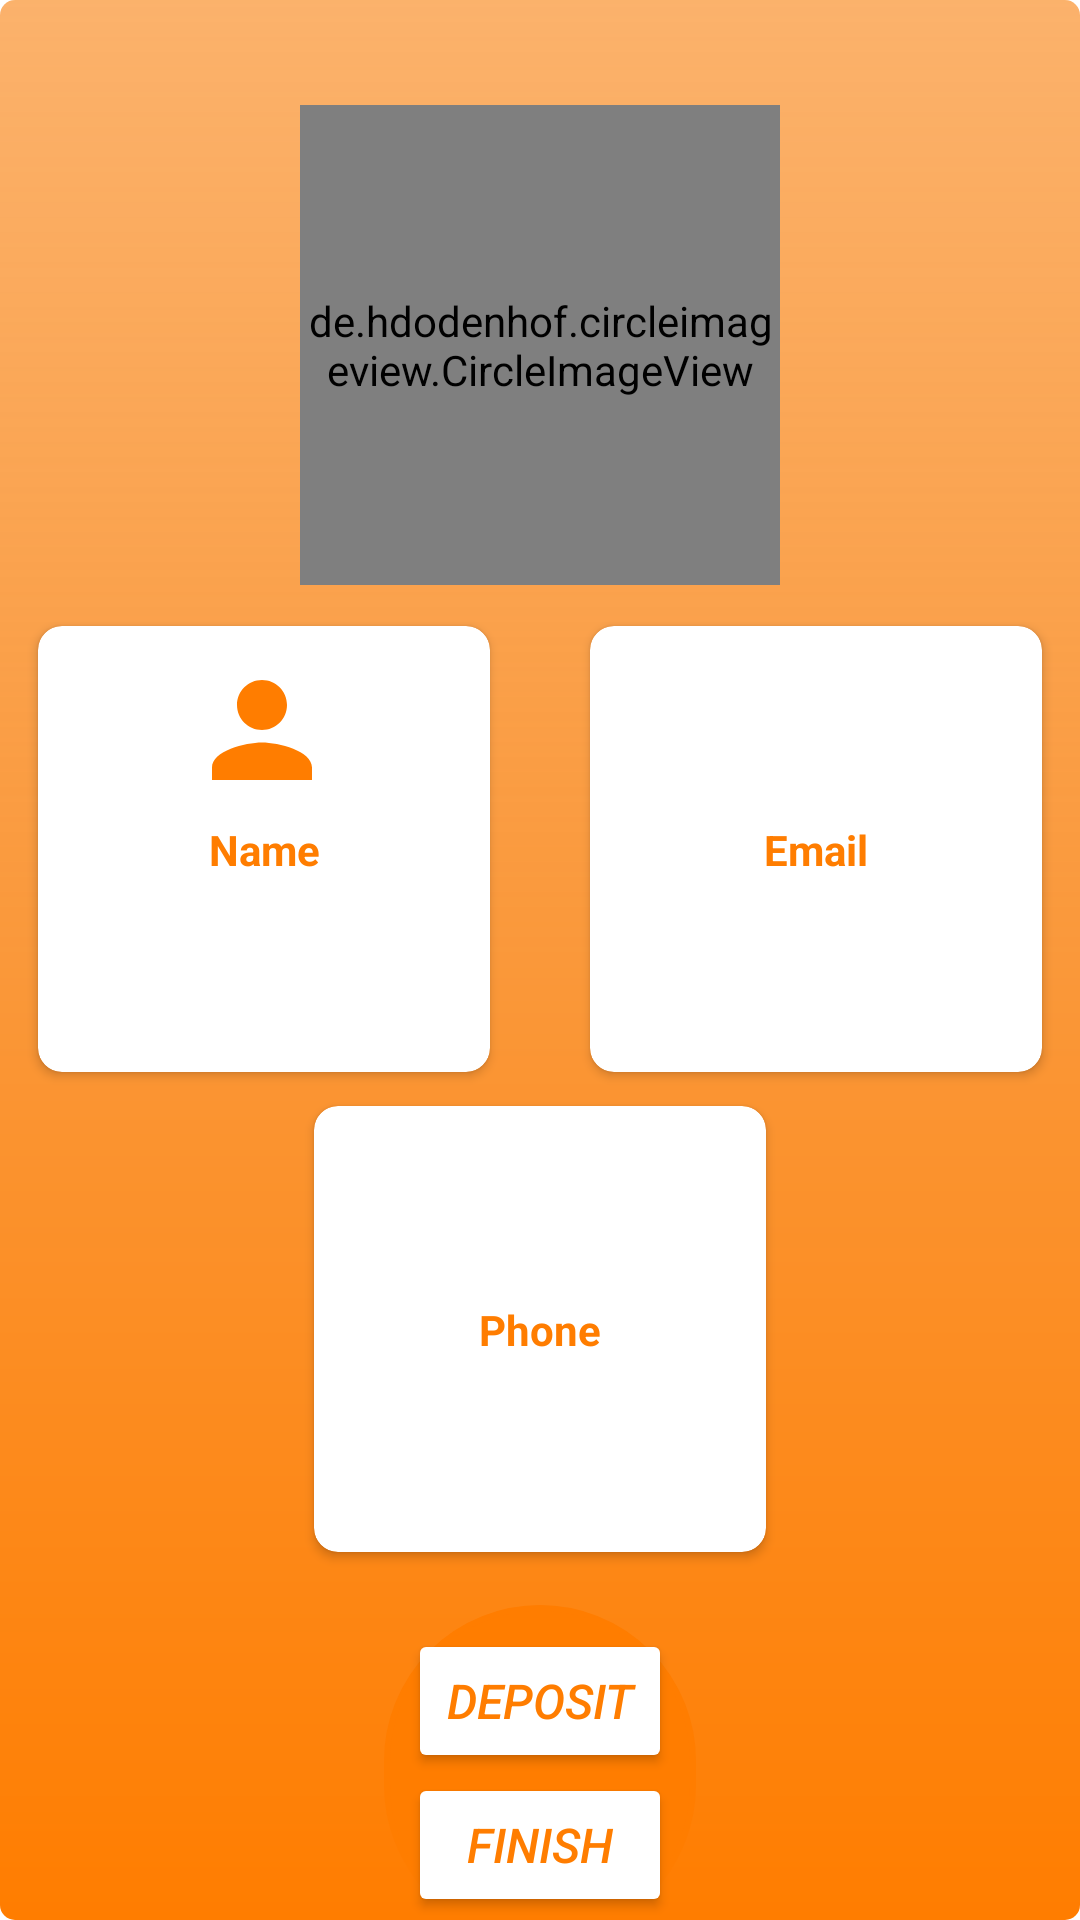

Where icons sit on this 1080*1920 app screen, as (x1, y1, x2, y2):
person: (212, 680, 312, 780)
